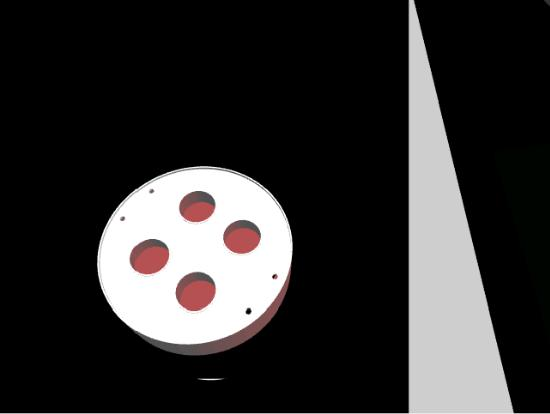hole: (170, 269, 221, 314), (174, 184, 219, 228), (128, 234, 171, 278), (223, 217, 264, 258)
